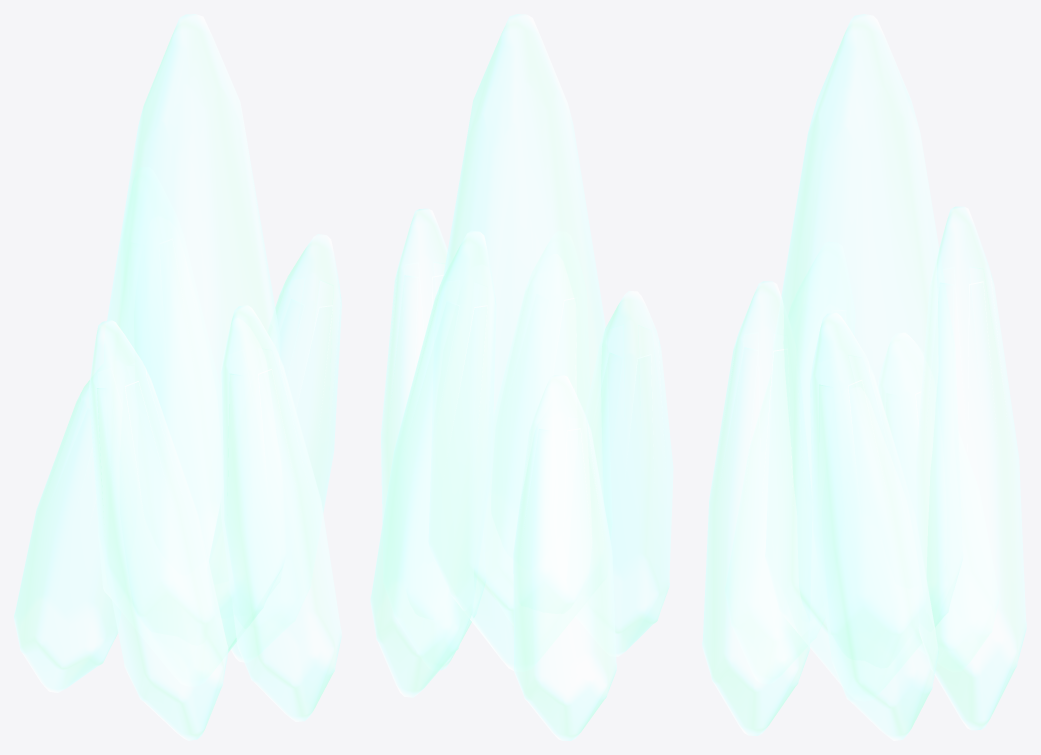
The model's file is material_crystal_green_v3.glb.
3 views of the same model, side by side, from view 1: azimuth 30°, elevation 25°; view 2: azimuth 150°, elevation 25°; view 3: azimuth 270°, elevation 25° (orthographic). The views are drawn at different scales.
Parts seen in each view (by area): view 1: item_crystal_green_main, item_crystal_green_c3, item_crystal_green_c4, item_crystal_green_c0, item_crystal_green_c1, item_crystal_green_c2; view 2: item_crystal_green_main, item_crystal_green_c1, item_crystal_green_c2, item_crystal_green_c3, item_crystal_green_c0, item_crystal_green_c4; view 3: item_crystal_green_main, item_crystal_green_c1, item_crystal_green_c4, item_crystal_green_c0, item_crystal_green_c3, item_crystal_green_c2.
Part boxes in pixels (x1=…): item_crystal_green_main: x1=98, y1=14, x2=285, y2=685; item_crystal_green_c3: x1=88, y1=320, x2=228, y2=740; item_crystal_green_c4: x1=221, y1=305, x2=341, y2=721; item_crystal_green_c0: x1=209, y1=234, x2=341, y2=662; item_crystal_green_c1: x1=121, y1=167, x2=220, y2=557; item_crystal_green_c2: x1=14, y1=363, x2=120, y2=692; item_crystal_green_main: x1=428, y1=14, x2=612, y2=671; item_crystal_green_c1: x1=370, y1=230, x2=496, y2=697; item_crystal_green_c2: x1=513, y1=375, x2=616, y2=740; item_crystal_green_c3: x1=576, y1=291, x2=673, y2=656; item_crystal_green_c0: x1=381, y1=208, x2=485, y2=670; item_crystal_green_c4: x1=484, y1=232, x2=589, y2=624; item_crystal_green_main: x1=765, y1=14, x2=962, y2=700; item_crystal_green_c1: x1=916, y1=206, x2=1026, y2=730; item_crystal_green_c4: x1=702, y1=281, x2=811, y2=735; item_crystal_green_c0: x1=810, y1=312, x2=938, y2=740; item_crystal_green_c3: x1=725, y1=242, x2=854, y2=683; item_crystal_green_c2: x1=878, y1=333, x2=998, y2=671.
Size of the model in its own units: 0.1733 by 0.424 by 0.1792.
